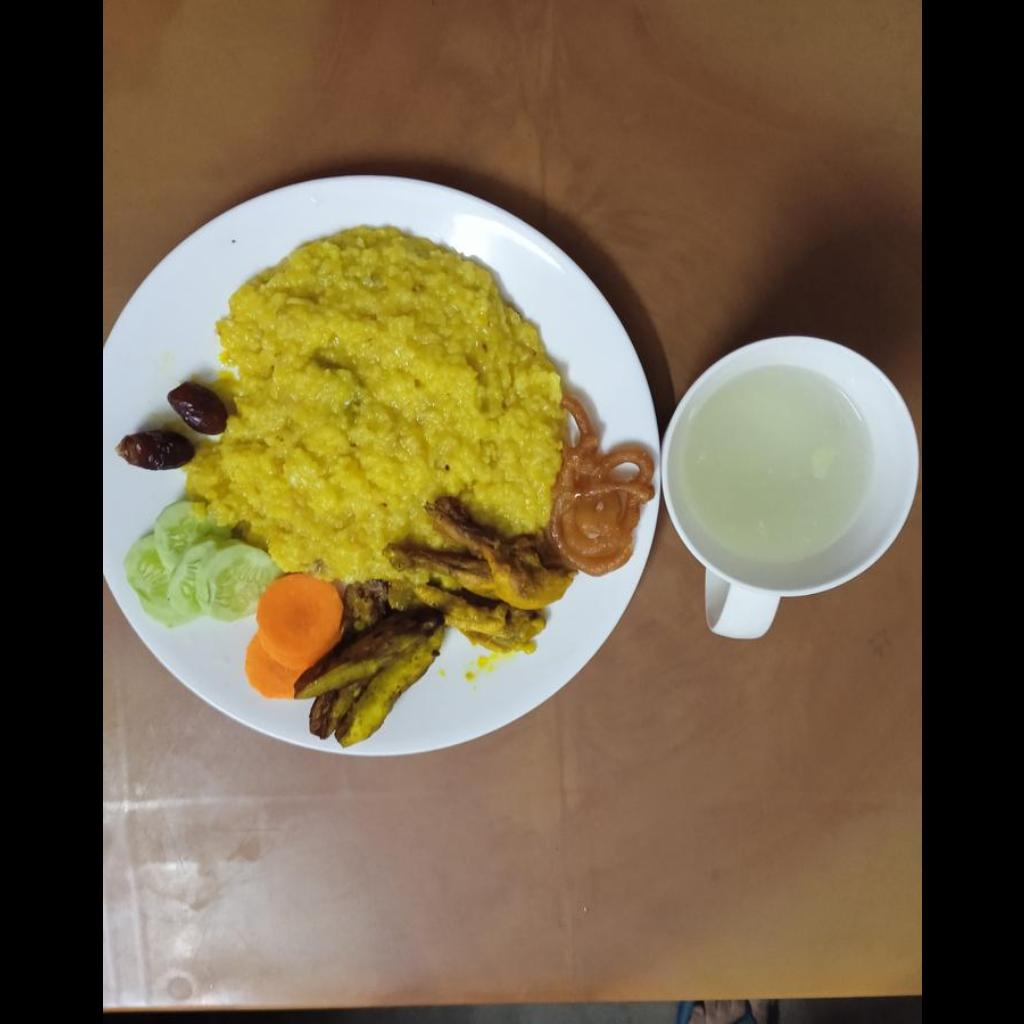carrot: (244, 573, 342, 697)
chicken: (385, 496, 573, 651)
cucumber: (127, 501, 266, 621)
dates: (113, 379, 222, 470)
jilapi: (548, 394, 653, 576)
juice: (679, 368, 865, 567)
khichuri: (186, 228, 564, 580)
potol: (294, 581, 446, 745)
